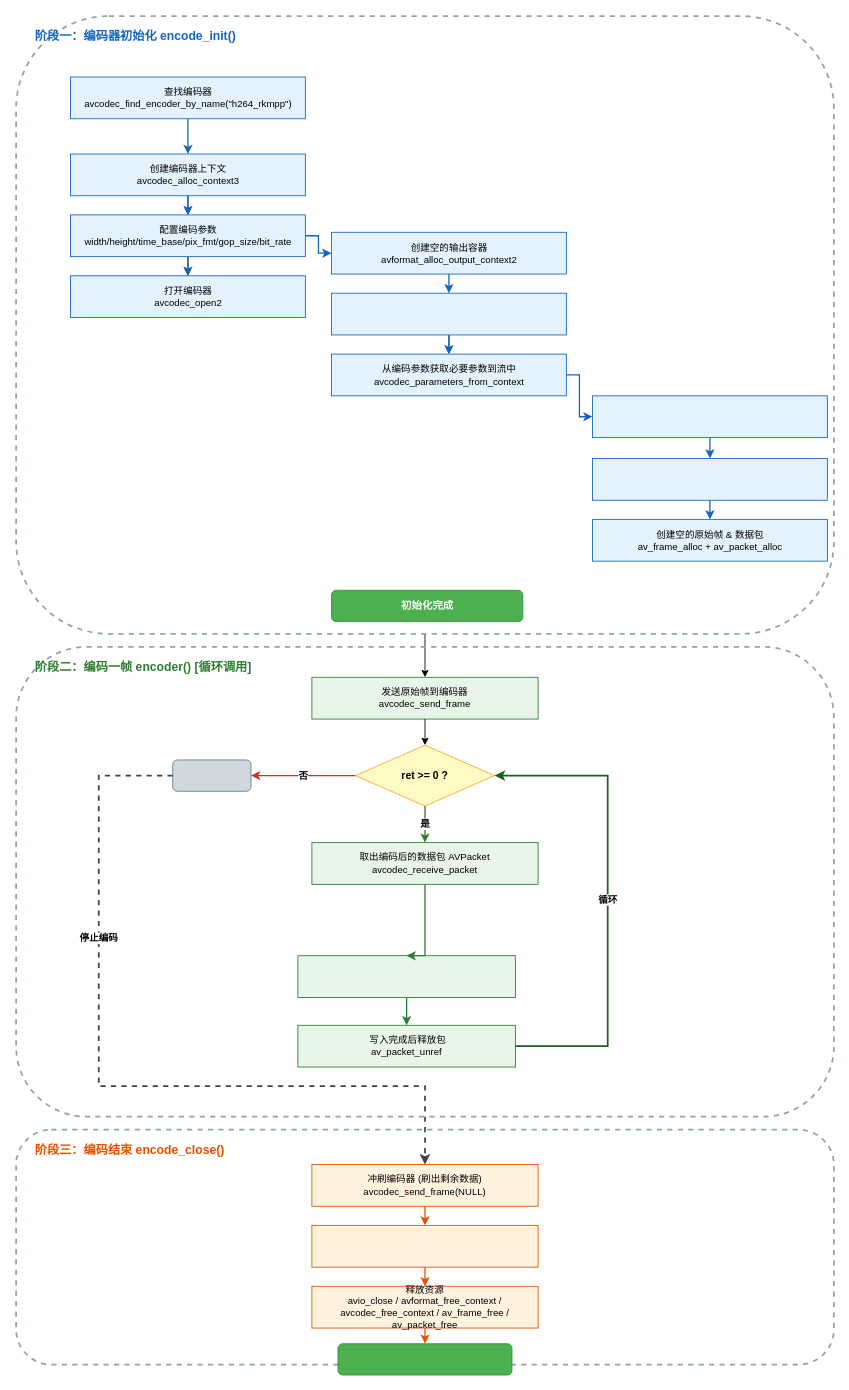
The diagram is 849 pixels wide and 1390 high, and some of its shapes have lost their labels. Here are the shapes that lost their labels. From the top down, the box of each, then its label:
(331, 292, 566, 335): 创建、添加视频流 avformat_new_stream
(592, 395, 827, 438): 打开输出文件 avio_open
(592, 458, 827, 500): 写入文件头 avformat_write_header
(172, 759, 251, 791): 返回
(297, 955, 515, 997): 写入文件 av_interleaved_write_frame
(311, 1225, 538, 1267): 写入文件尾 av_write_trailer
(337, 1343, 512, 1375): 编码结束
